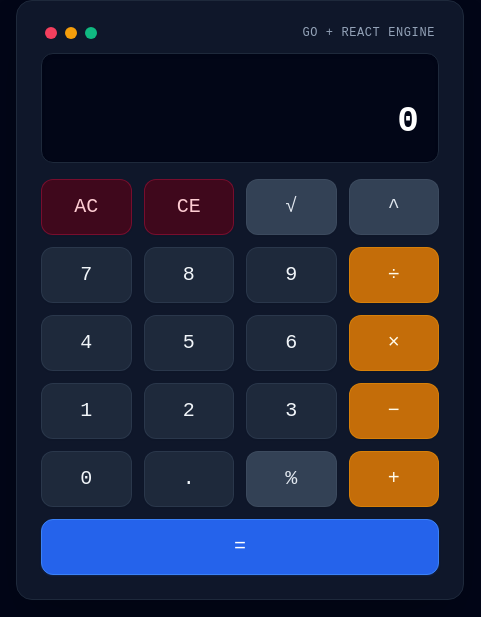
it: Calculator Component Integration & User Interactions › handles user digit clicks and decimal entry
Click the button "5": x=189, y=343 [144,315,234,371]
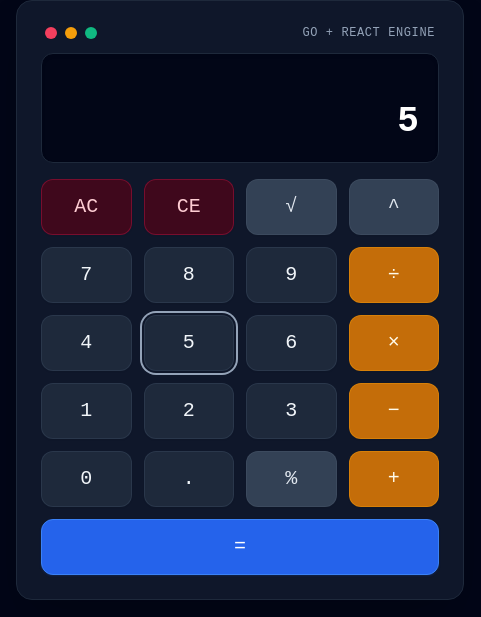
Click the button named "decimal point": x=189, y=479 [144,451,234,507]
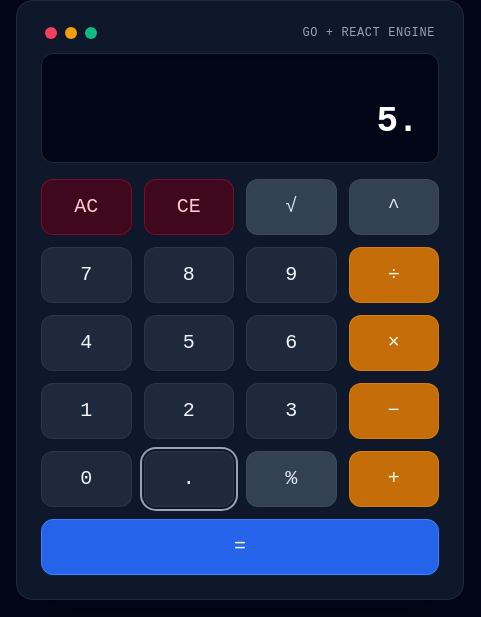
Click the button "2": x=189, y=411 [144,383,234,439]
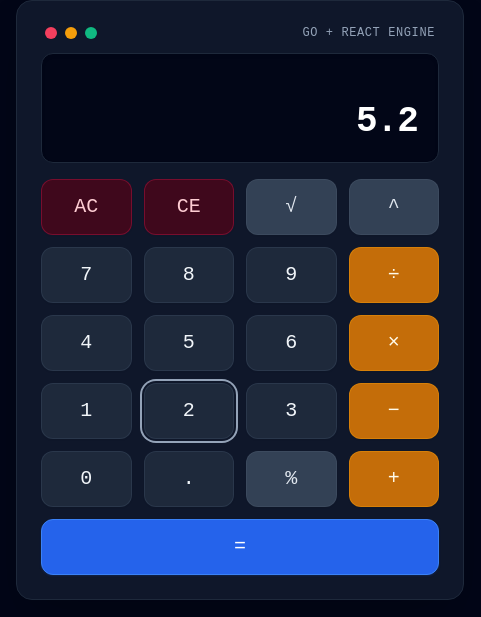
Now the text with test id "calculator-display" reads "5.2", box [356,101,418,142]
